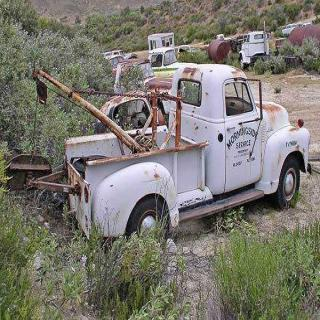Towing_truck: (31, 61, 312, 244)
